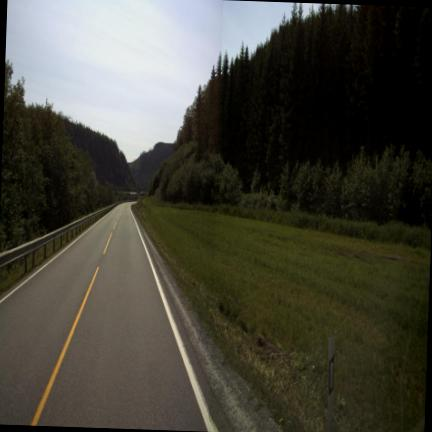Road: (0, 204, 218, 430)
